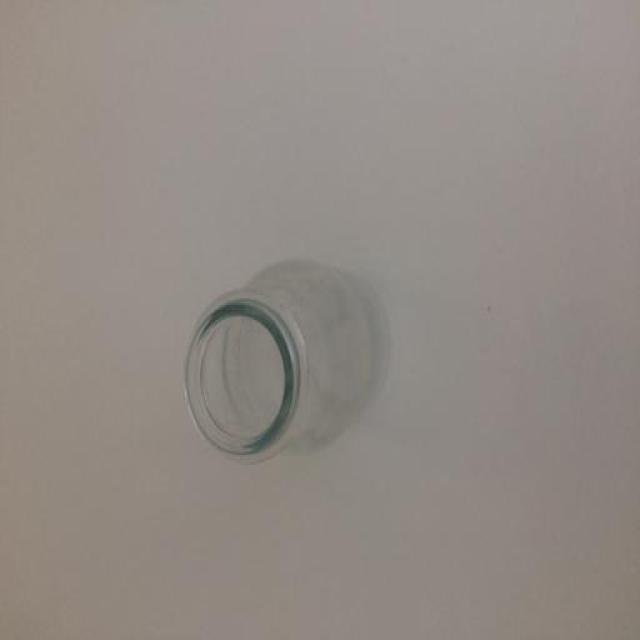Glass: (166, 153, 422, 476)
